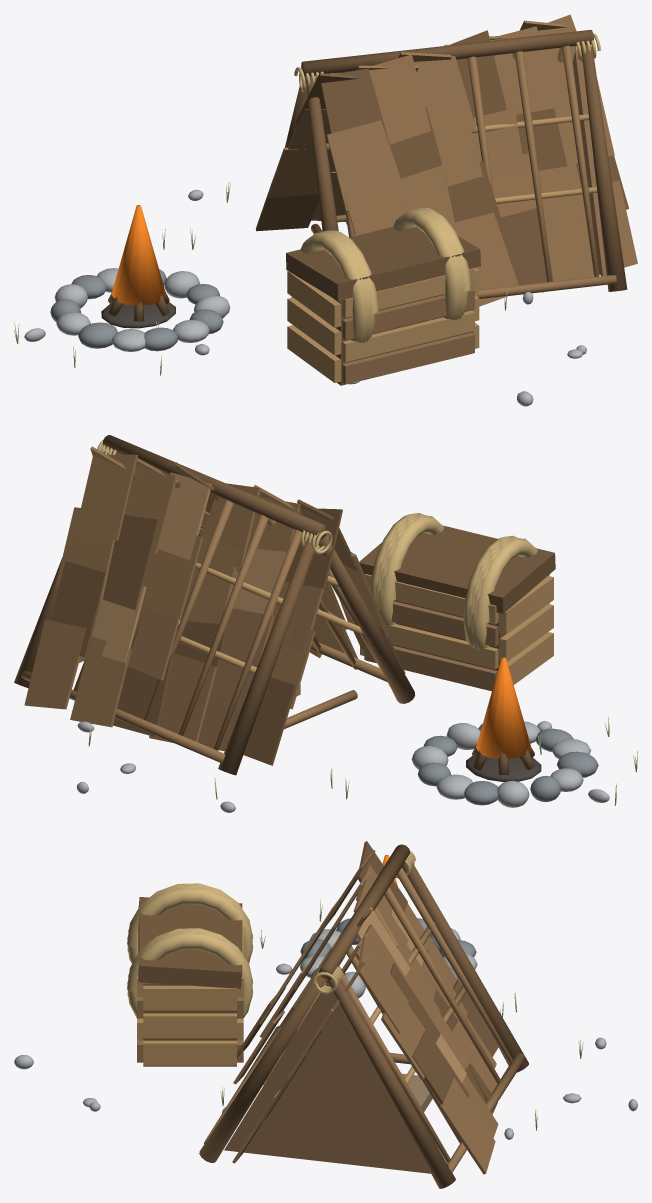
Rendered from camp_landmark.glb.
3 renders of one model, top to bottom at view 1: azimuth 30°, elevation 25°; view 2: azimuth 150°, elevation 25°; view 3: azimuth 270°, elevation 25°, orthographic.
Visible parts, largest first — view 1: lid, roof_cover_-1_2_0, rear_support_l, ridgepole, roof_cover_-1_3_1, box_rope_left, box_rope_right, flame_outer, roof_cover_-1_2_2, front_plank_0, roof_cover_-1_0_4, roof_cover_-1_3_0 (+43 smaller); view 2: lid, front_support_r, roof_cover_1_0_5, roof_cover_1_3_5, roof_cover_1_2_4, box_rope_left, roof_cover_1_0_4, flame_outer, ridgepole, roof_cover_1_0_2, box_rope_right, front_support_l (+47 smaller); view 3: rear_gable, lid, rear_support_r, rear_support_l, box_rope_right, box_rope_left, front_support_r, right_plank_0, right_plank_1, right_plank_2, roof_cover_1_0_5, ridgepole (+22 smaller).
Boxes of the visible parts, <box> form: lid: <box>286,227,480,301</box>; roof_cover_-1_2_0: <box>326,120,407,210</box>; rear_support_l: <box>581,46,627,291</box>; ridgepole: <box>301,30,593,77</box>; roof_cover_-1_3_1: <box>356,54,430,144</box>; box_rope_left: <box>300,230,378,342</box>; box_rope_right: <box>393,208,470,320</box>; flame_outer: <box>111,205,166,305</box>; roof_cover_-1_2_2: <box>427,102,482,186</box>; front_plank_0: <box>342,332,474,384</box>; roof_cover_-1_0_4: <box>542,201,593,292</box>; roof_cover_-1_3_0: <box>321,68,390,146</box>; lid: <box>359,525,555,613</box>; front_support_r: <box>218,537,315,775</box>; roof_cover_1_0_5: <box>24,619,86,709</box>; roof_cover_1_3_5: <box>74,454,137,540</box>; roof_cover_1_2_4: <box>103,515,158,610</box>; box_rope_left: <box>463,535,537,650</box>; roof_cover_1_0_4: <box>70,636,131,727</box>; flame_outer: <box>476,657,531,758</box>; ridgepole: <box>102,435,326,539</box>; roof_cover_1_0_2: <box>149,653,217,742</box>; box_rope_right: <box>370,513,444,627</box>; front_support_l: <box>316,535,415,703</box>; rear_gable: <box>224,981,430,1173</box>; lid: <box>138,897,242,988</box>; rear_support_r: <box>328,977,455,1188</box>; rear_support_l: <box>199,976,327,1162</box>; box_rope_right: <box>127,928,253,1018</box>; box_rope_left: <box>127,883,253,963</box>; front_support_r: <box>402,861,528,1072</box>; right_plank_0: <box>143,1040,236,1065</box>; right_plank_1: <box>143,1013,236,1038</box>; right_plank_2: <box>143,985,236,1010</box>; roof_cover_1_0_5: <box>439,1077,495,1174</box>; ridgepole: <box>319,844,410,978</box>.
Bounding box in the file's own units: 4.32 × 1.59 × 4.12.
